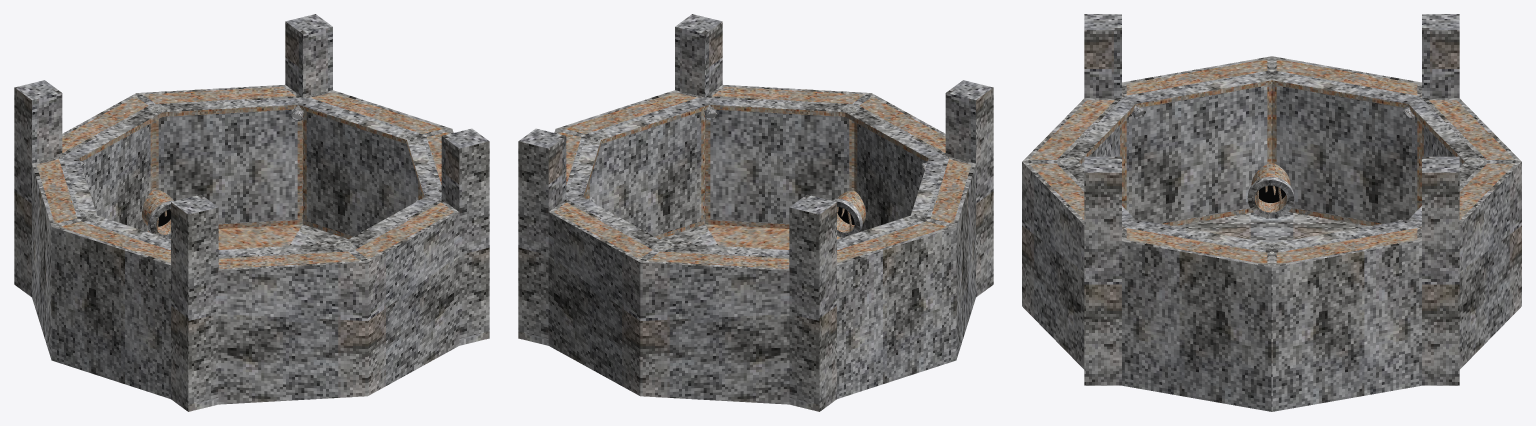
The model's file is ArenaRedo.fbx.
3 renders of one model, left to right at view 1: azimuth 30°, elevation 25°; view 2: azimuth 150°, elevation 25°; view 3: azimuth 270°, elevation 25°, orthographic. The views are drawn at different scales.
Visible parts, largest first — view 1: Cube, Cylinder.001; view 2: Cube, Cylinder; view 3: Cube, Cylinder.003.
Part boxes in pixels (left/top/right/bottom): Cube: left=14, top=14, right=489, bottom=411; Cylinder.001: left=142, top=189, right=173, bottom=238; Cube: left=518, top=14, right=993, bottom=411; Cylinder: left=831, top=190, right=865, bottom=237; Cube: left=1022, top=14, right=1521, bottom=411; Cylinder.003: left=1247, top=163, right=1294, bottom=218.
Size of the model in its own units: 2537 by 1193 by 2537.
4 materials, 2 textured.
